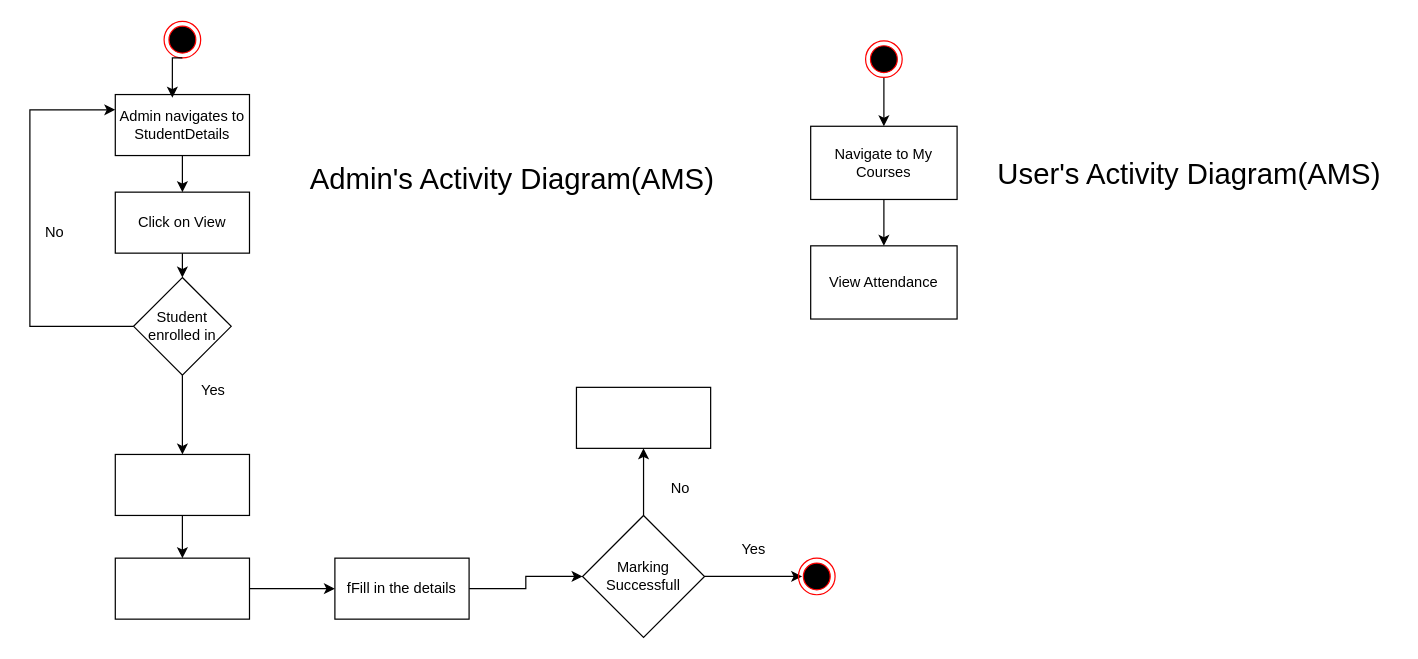
This 1418x659 diagram has some shape labels left out. Here are the shapes that lost their labels. From the top down, the centre of each, then its label:
At point (643, 417): "Display error Message".
At point (181, 484): "Display user's Course Details".
At point (181, 588): "Click on Mark Attendance of the User".
